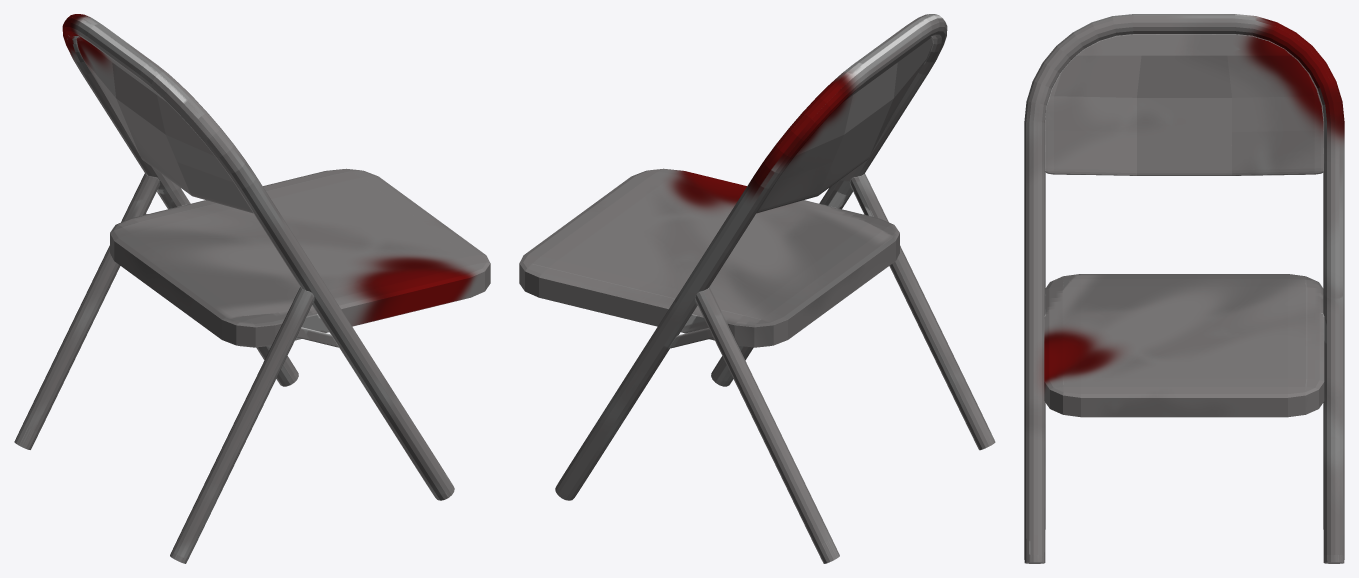
The model's file is Chair.fbx.
3 renders of one model, left to right at view 1: azimuth 30°, elevation 25°; view 2: azimuth 150°, elevation 25°; view 3: azimuth 270°, elevation 25°, orthographic. The views are drawn at different scales.
Parts seen in each view (by area): view 1: Chair; view 2: Chair; view 3: Chair.
Boxes of the visible parts, <box> form: Chair: <box>14,14,490,563</box>; Chair: <box>519,14,995,563</box>; Chair: <box>1024,14,1344,563</box>.
Size of the model in its own units: 502 by 648 by 428.
Materials: 1 (1 with a texture image).
